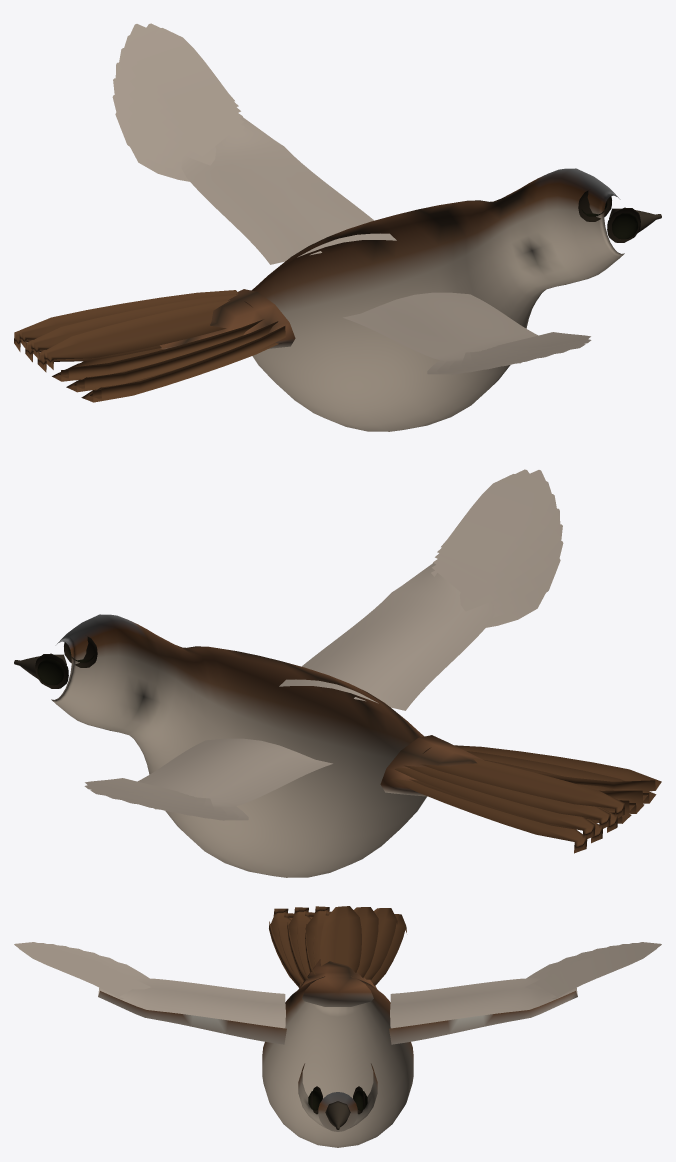
The model's file is SM_Bird_sparrow_flap1.glb.
The picture shows the model from 3 angles, top to bottom: view 1: azimuth 30°, elevation 25°; view 2: azimuth 150°, elevation 25°; view 3: azimuth 270°, elevation 25°; orthographic projection. The views are drawn at different scales.
Parts seen in each view (by area): view 1: SM_Bird_sparrow_flap1; view 2: SM_Bird_sparrow_flap1; view 3: SM_Bird_sparrow_flap1.
Boxes of the visible parts, x1=… form: SM_Bird_sparrow_flap1: x1=14, y1=23, x2=661, y2=431; SM_Bird_sparrow_flap1: x1=14, y1=469, x2=661, y2=877; SM_Bird_sparrow_flap1: x1=14, y1=906, x2=661, y2=1147.
Size of the model in its own units: 0.1703 by 0.0683 by 0.2148.
